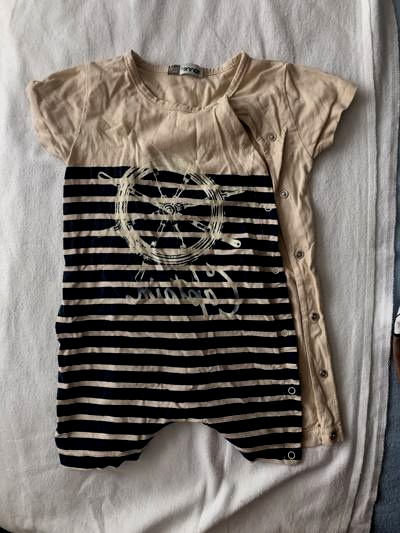Body: (19, 34, 373, 471)
